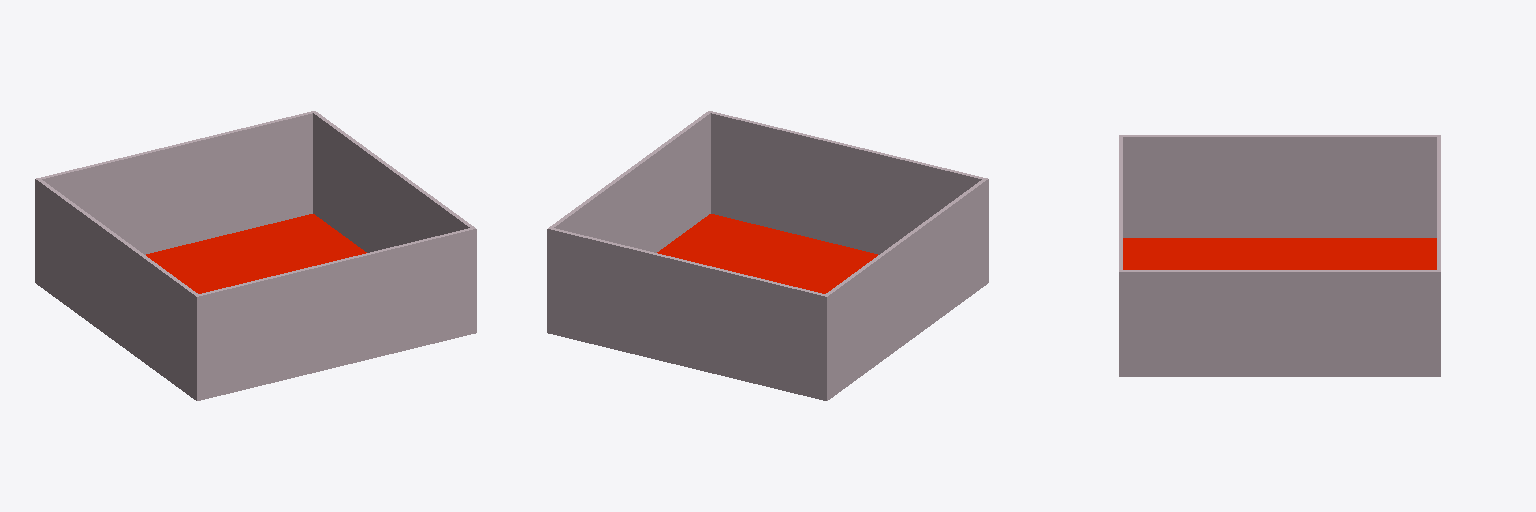
Rendered from square_white_orange_box.obj.
The picture shows the model from 3 angles: view 1: azimuth 30°, elevation 25°; view 2: azimuth 150°, elevation 25°; view 3: azimuth 270°, elevation 25°; orthographic projection.
Visible parts, largest first — view 1: 盒子本体(1); view 2: 盒子本体(1); view 3: 盒子本体(1).
Boxes of the visible parts, x1,y1,x2,y2 form: 盒子本体(1): [35, 111, 476, 400]; 盒子本体(1): [547, 111, 988, 400]; 盒子本体(1): [1119, 135, 1440, 376].
Bounding box in the file's own units: 0.14 × 0.05 × 0.14.